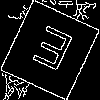E: (25, 25, 77, 80)
